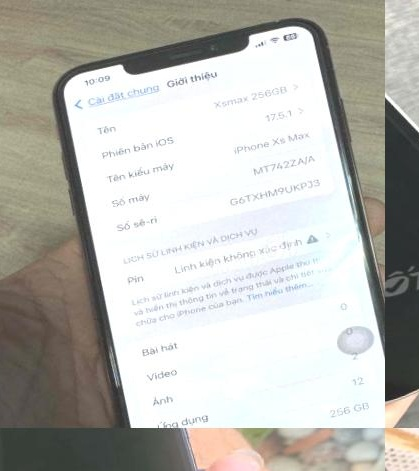scratch: (109, 428, 296, 471)
